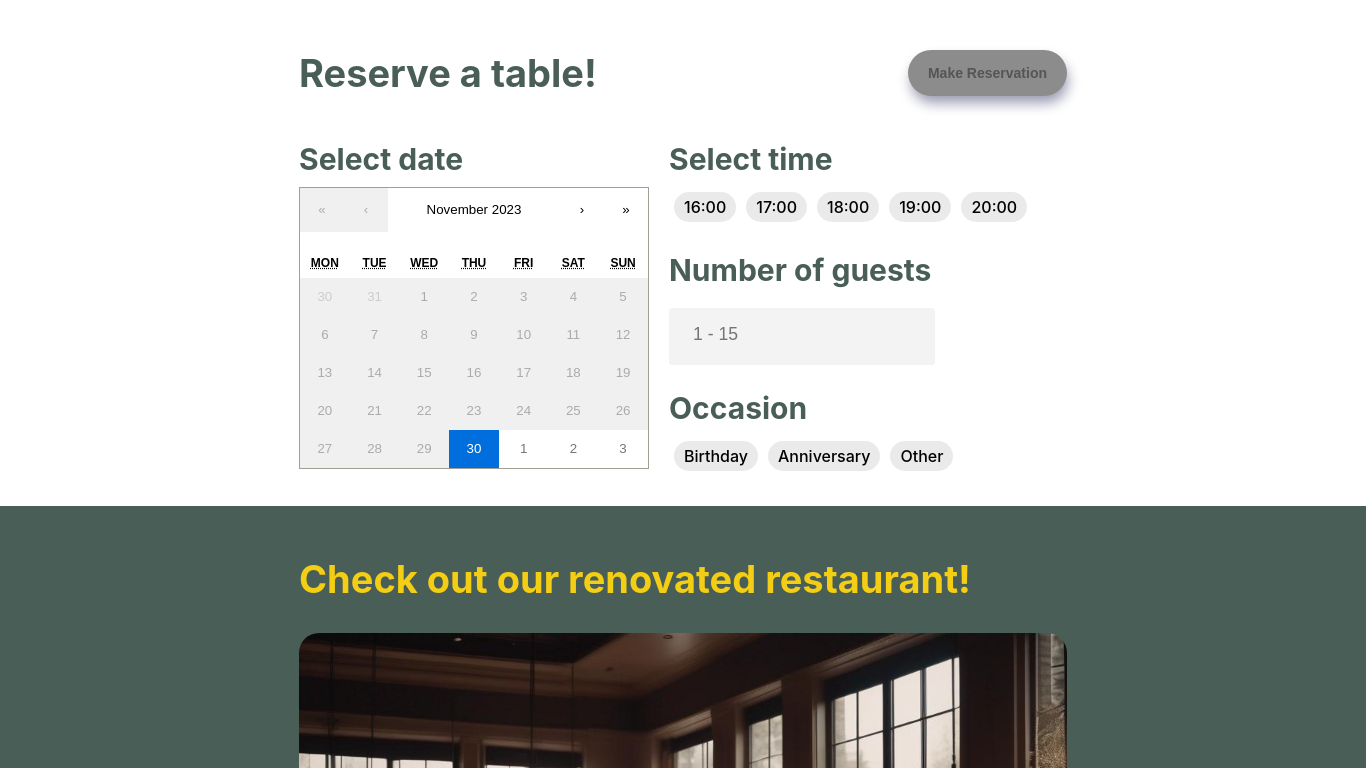
Testing Form Rules › check the submit is enabled after selecting hour, guests and occasion
Click the text with test id "hour-container" showing "17:00". click: (777, 207)
box: [746,192,807,222]
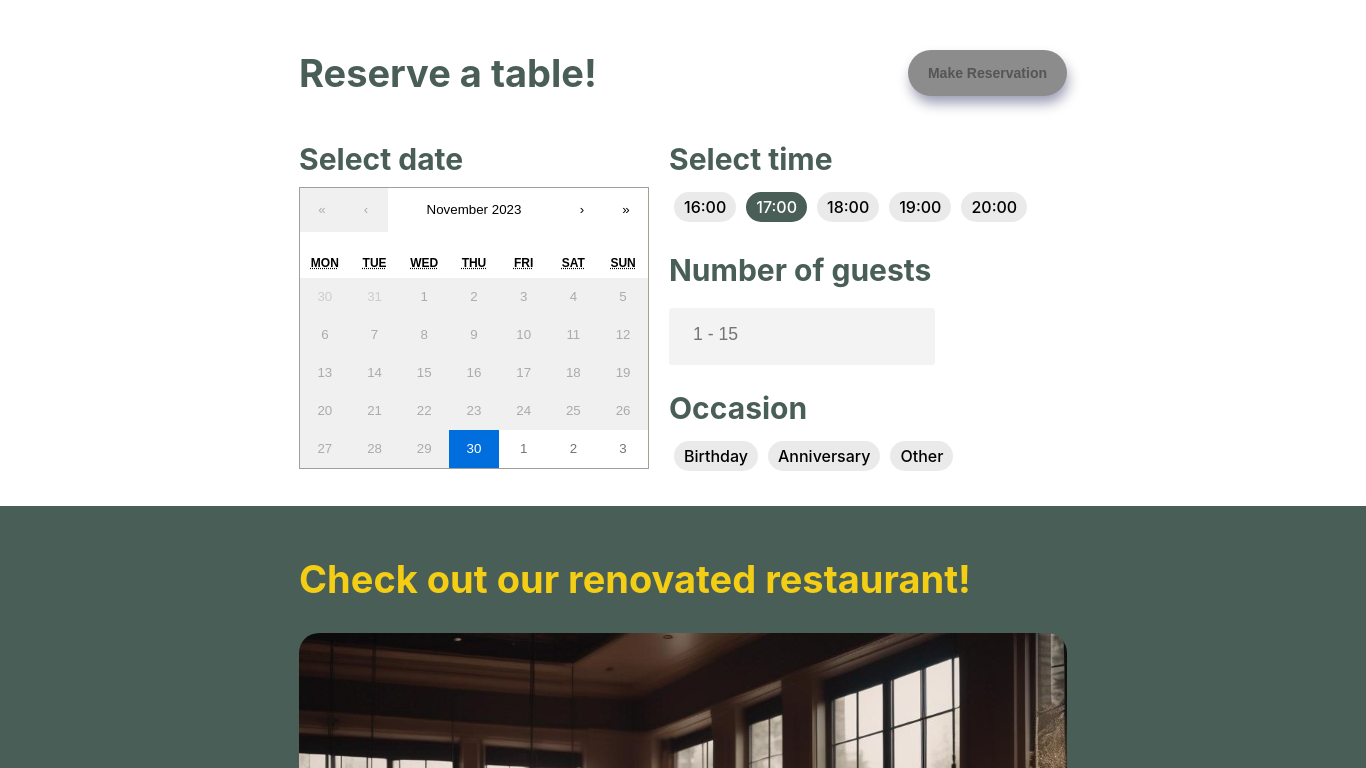
Check: the text with test id "hour-container" has class "reservation-content-form-hour-selected", box [746,192,807,222]
Type "3" into the number field named "guests-number-selector". click: (802, 336)
box: [669,308,935,365]
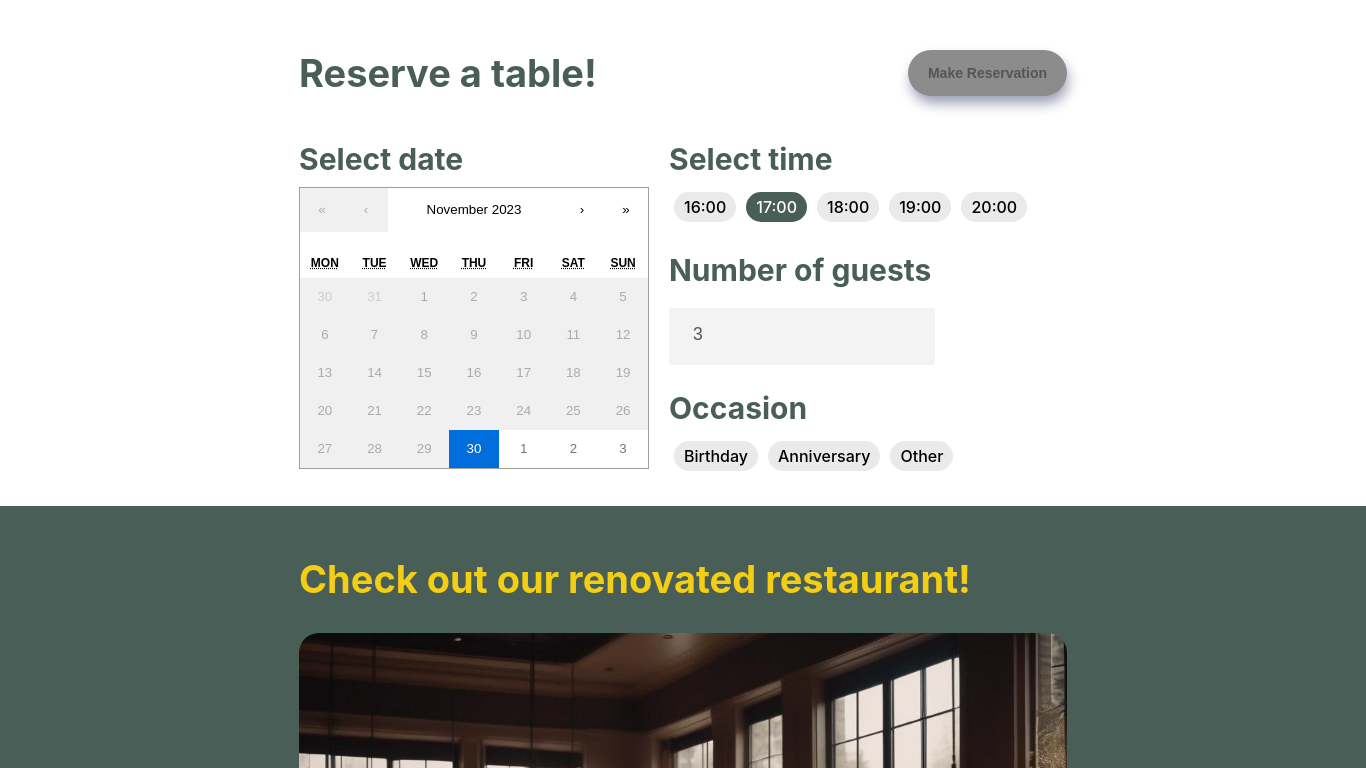
Click the text with test id "occasion-container" showing "Anniversary". click: (824, 456)
box: [768,441,880,471]
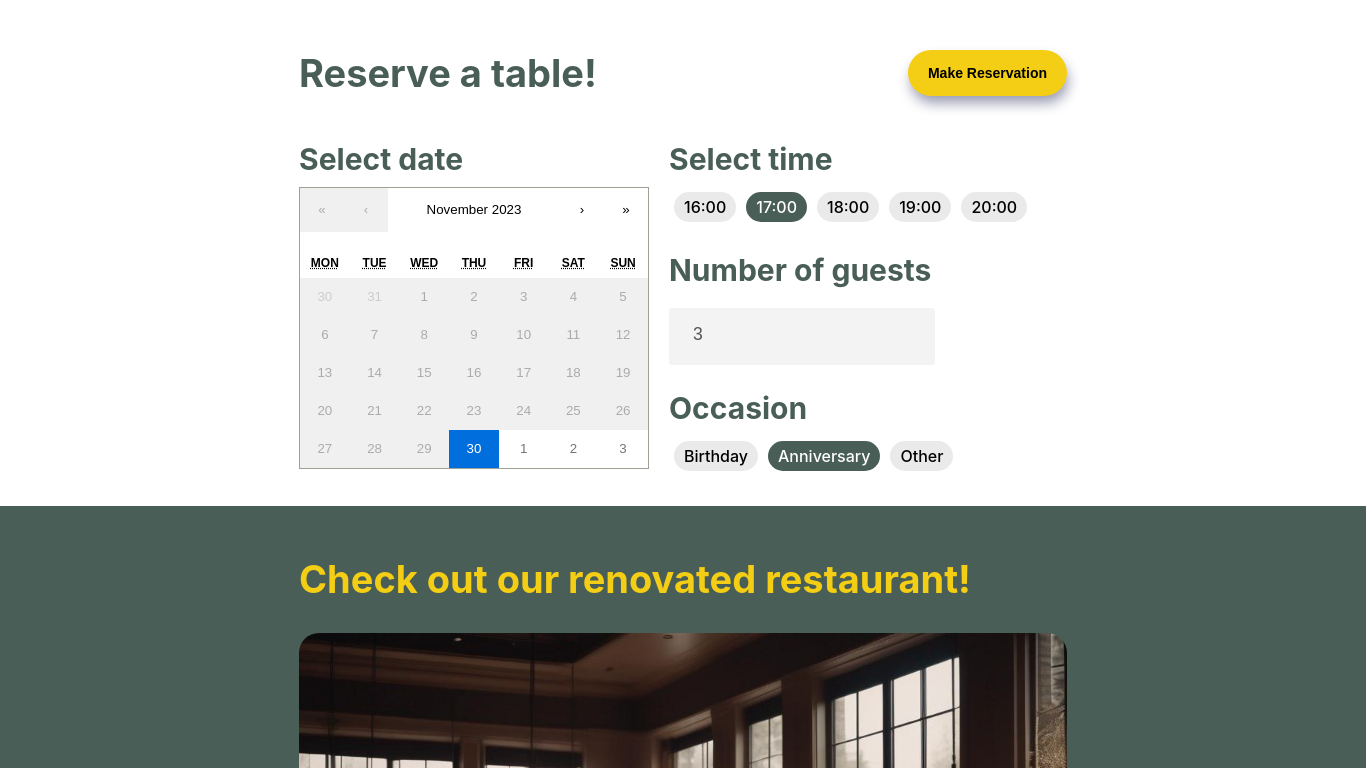
Check: the button with test id "submit-button" is enabled, box [908,50,1067,96]
